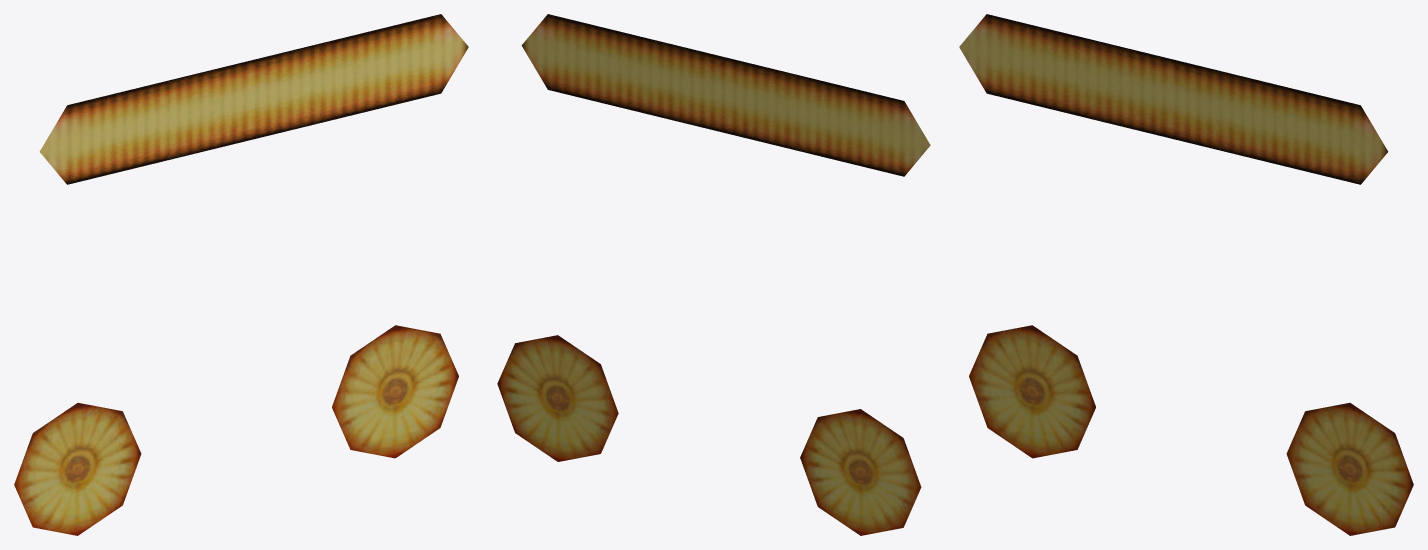
Rendered from kse_firespray_engine_s01_on_l2.fbx.
The picture shows the model from 3 angles, left to right: view 1: azimuth 30°, elevation 25°; view 2: azimuth 150°, elevation 25°; view 3: azimuth 330°, elevation 25°; orthographic projection. The views are drawn at different scales.
Parts seen in each view (by area): view 1: mesh_node; view 2: mesh_node; view 3: mesh_node.
Boxes of the visible parts, left/top/right/bottom form: mesh_node: left=14, top=14, right=468, bottom=535; mesh_node: left=497, top=14, right=930, bottom=535; mesh_node: left=959, top=14, right=1413, bottom=535.
Bounding box in the file's own units: 5.88 × 5.69 × 0.4026.
1 material, 1 textured.
